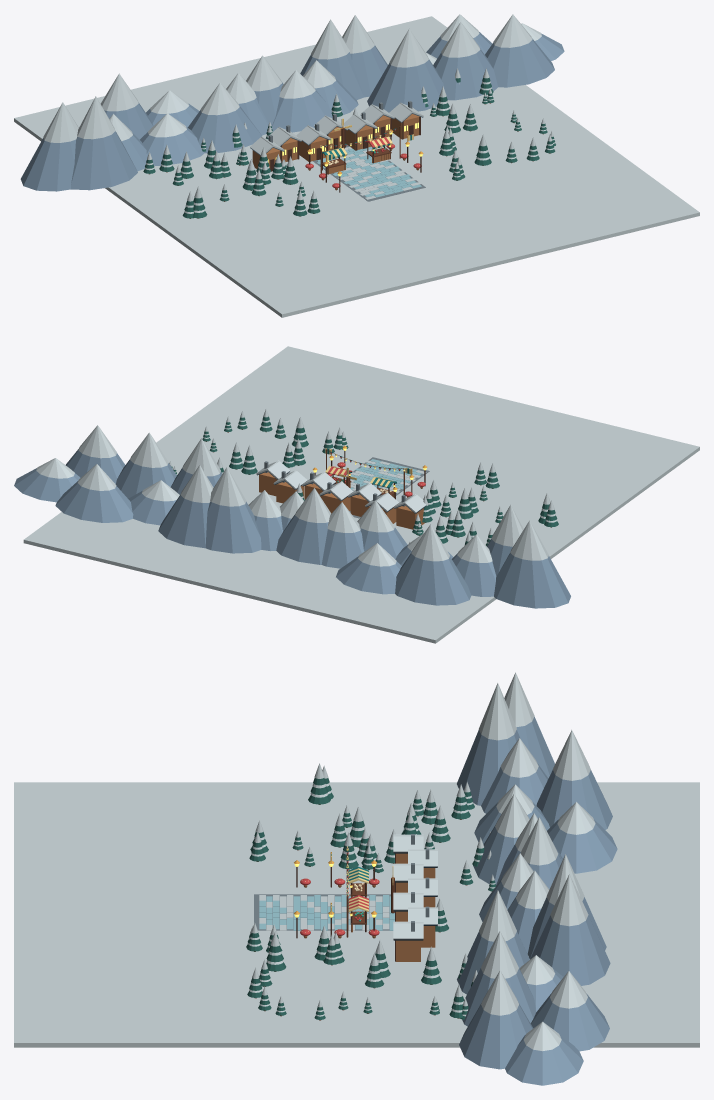
The model's file is village.glb.
3 renders of one model, top to bottom at view 1: azimuth 30°, elevation 25°; view 2: azimuth 150°, elevation 25°; view 3: azimuth 270°, elevation 25°, orthographic. The views are drawn at different scales.
Visible parts, largest first — view 1: snow, mountain.001, mountain.013, mountain.017, mountain, mountain.015, mountain.006, mountain.009, mountain.004, mountain.012, mountain.011, snow.051 (+20 smaller); view 2: snow, mountain, mountain.003, mountain.011, mountain.016, mountain.012, mountain.008, mountain.005, mountain.015, mountain.018, mountain.007, mountain.002 (+23 smaller); view 3: snow, mountain.012, mountain.017, mountain.018, mountain.003, mountain.016, mountain.001, mountain.005, mountain.015, mountain.002, mountain.013, mountain.006 (+22 smaller).
Boxes of the visible parts, bbox=[...] form: snow: bbox=[14, 16, 699, 317]; mountain.001: bbox=[71, 131, 137, 190]; mountain.013: bbox=[367, 59, 445, 112]; mountain.017: bbox=[485, 38, 554, 87]; mountain: bbox=[20, 138, 76, 191]; mountain.015: bbox=[433, 48, 497, 100]; mountain.006: bbox=[187, 105, 261, 153]; mountain.009: bbox=[271, 89, 332, 132]; mountain.004: bbox=[140, 127, 204, 165]; mountain.012: bbox=[350, 45, 387, 97]; mountain.011: bbox=[300, 52, 364, 99]; snow.051: bbox=[77, 96, 115, 139]; snow: bbox=[23, 346, 699, 643]; mountain: bbox=[494, 553, 570, 608]; mountain.003: bbox=[395, 552, 471, 605]; mountain.011: bbox=[205, 501, 261, 553]; mountain.016: bbox=[55, 481, 133, 522]; mountain.012: bbox=[158, 495, 209, 548]; mountain.008: bbox=[276, 514, 328, 564]; mountain.005: bbox=[336, 556, 401, 594]; mountain.015: bbox=[115, 459, 176, 498]; mountain.018: bbox=[14, 468, 80, 502]; mountain.007: bbox=[321, 529, 364, 568]; mountain.002: bbox=[452, 553, 496, 596]; snow: bbox=[14, 782, 699, 1047]; mountain.012: bbox=[530, 915, 610, 985]; mountain.017: bbox=[459, 1003, 533, 1069]; mountain.018: bbox=[505, 1035, 583, 1085]; mountain.003: bbox=[536, 770, 612, 829]; mountain.016: bbox=[530, 993, 609, 1051]; mountain.001: bbox=[457, 730, 520, 805]; mountain.005: bbox=[547, 819, 617, 873]; mountain.015: bbox=[462, 968, 535, 1026]; mountain.002: bbox=[481, 763, 548, 813]; mountain.013: bbox=[457, 931, 529, 994]; mountain.006: bbox=[473, 825, 517, 884].
Size of the model in its own units: 94.6 by 13.64 by 80.
